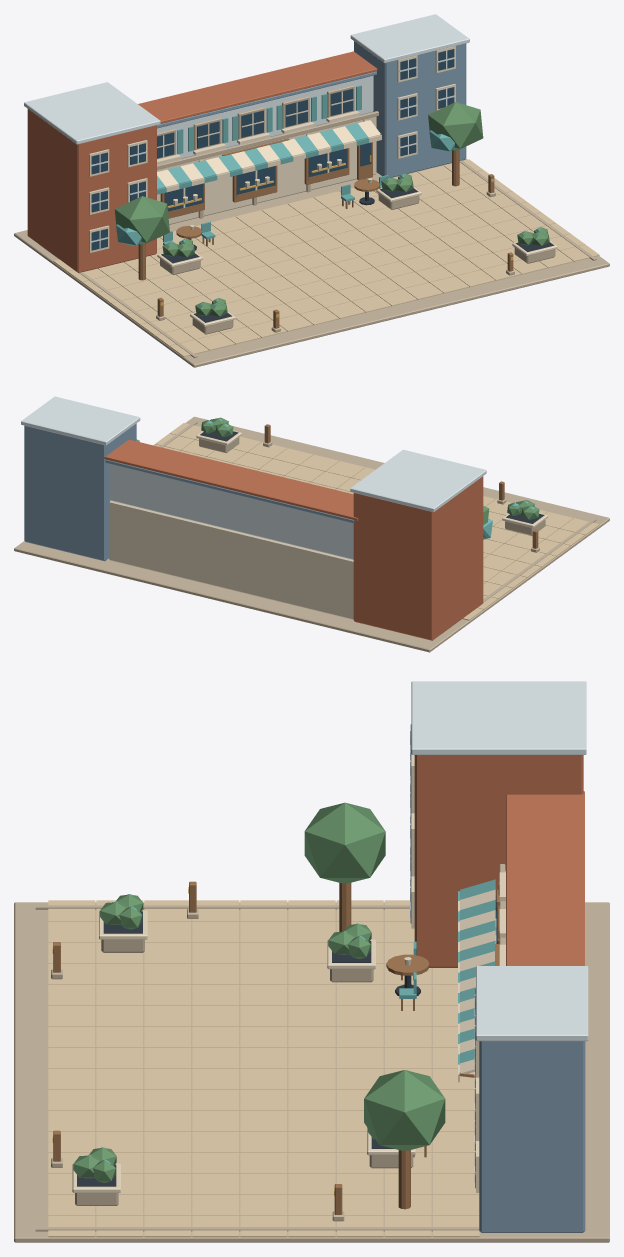
Rendered from story_courtyard_v01.glb.
3 views of the same model, one above another, from view 1: azimuth 30°, elevation 25°; view 2: azimuth 150°, elevation 25°; view 3: azimuth 270°, elevation 25° (orthographic). The views are drawn at different scales.
Parts seen in each view (by area): view 1: Courtyard paving, Warm campus architecture, Cafe fittings and awning, Courtyard planters and trees, Coffee terrace furniture, Courtyard perimeter details; view 2: Warm campus architecture, Courtyard paving, Courtyard planters and trees, Courtyard perimeter details; view 3: Courtyard paving, Warm campus architecture, Courtyard planters and trees, Cafe fittings and awning, Courtyard perimeter details, Coffee terrace furniture.
Boxes of the visible parts, x1,y1,x2,y2 form: Courtyard paving: [14, 158, 609, 367]; Warm campus architecture: [24, 14, 469, 272]; Cafe fittings and awning: [157, 85, 381, 218]; Courtyard planters and trees: [114, 102, 557, 334]; Coffee terrace furniture: [163, 175, 388, 250]; Courtyard perimeter details: [156, 174, 514, 332]; Warm campus architecture: [21, 396, 486, 640]; Courtyard paving: [14, 416, 609, 652]; Courtyard planters and trees: [136, 417, 547, 539]; Courtyard perimeter details: [263, 424, 539, 552]; Courtyard paving: [14, 900, 609, 1242]; Warm campus architecture: [410, 681, 588, 1232]; Courtyard planters and trees: [72, 802, 445, 1209]; Cafe fittings and awning: [458, 872, 505, 1082]; Courtyard perimeter details: [51, 881, 344, 1221]; Coffee terrace furniture: [386, 941, 429, 1157].
Size of the model in its own units: 24 by 7.63 by 18.
1 material, 1 textured.
